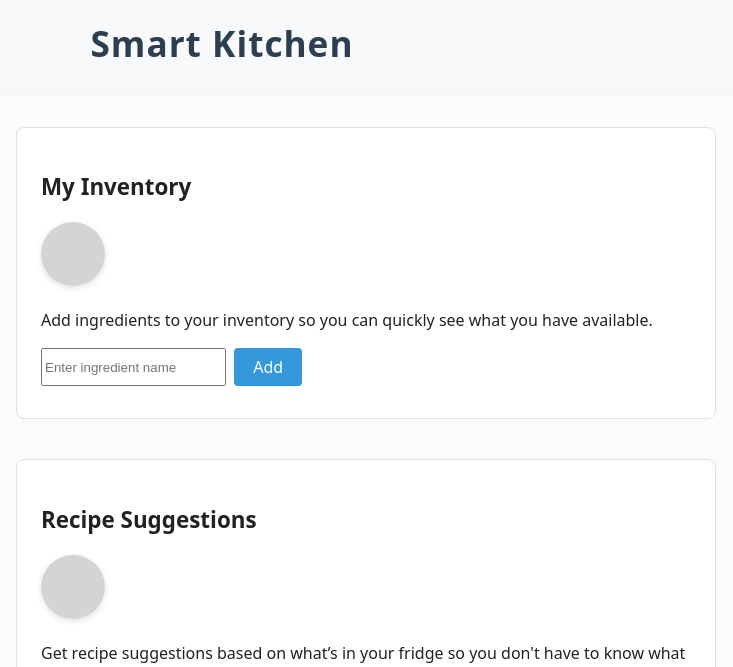
Test: SmartKitchen › shows recipe suggestions with all missing ingredients if no inventory matches (UI logic)
The image size is (733, 667).
# Add a non-matching ingredient so the button is enabled
In the field with placeholder "Enter ingredient name": (134, 368) x1=41 y1=348 x2=226 y2=386, type "xyzabc"
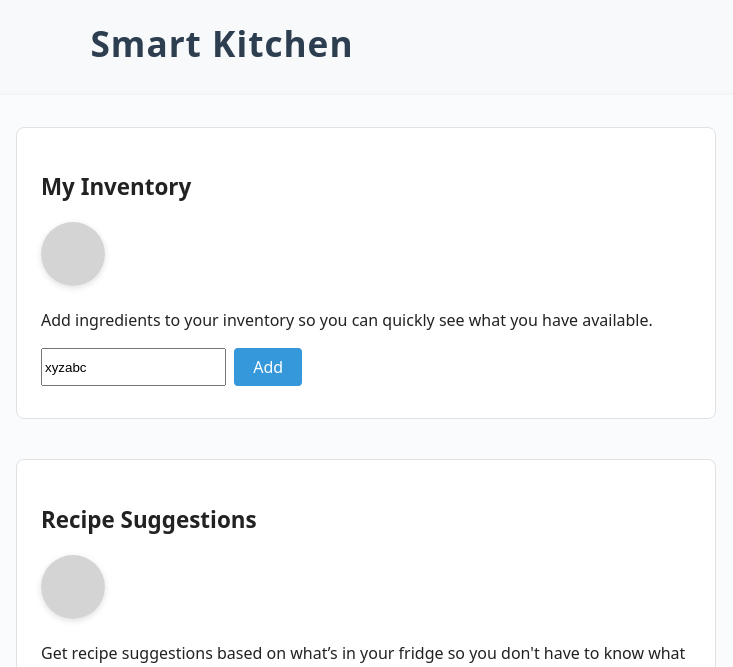
Click the button "Add": (268, 368) x1=234 y1=348 x2=302 y2=386
(page scrolled)
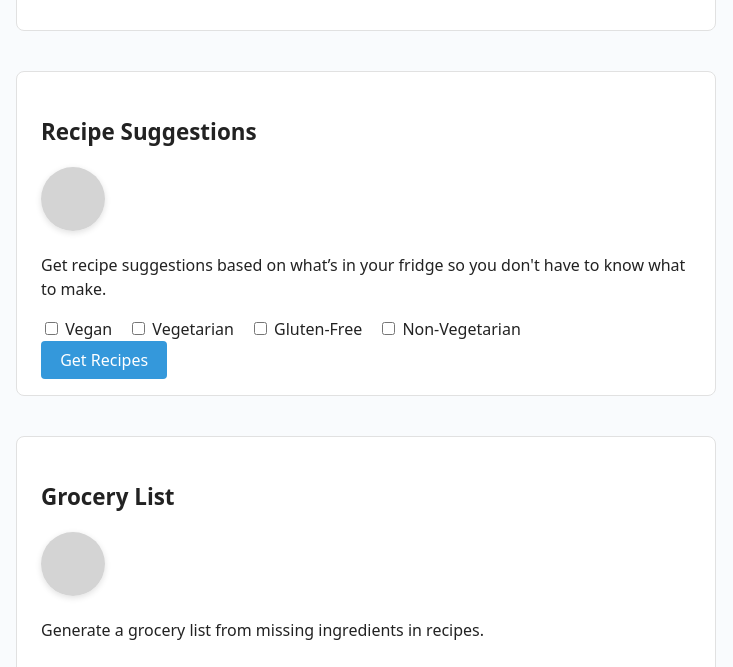
# Now click Get Recipes
Click the button "Get Recipes": (104, 360) x1=41 y1=341 x2=167 y2=379
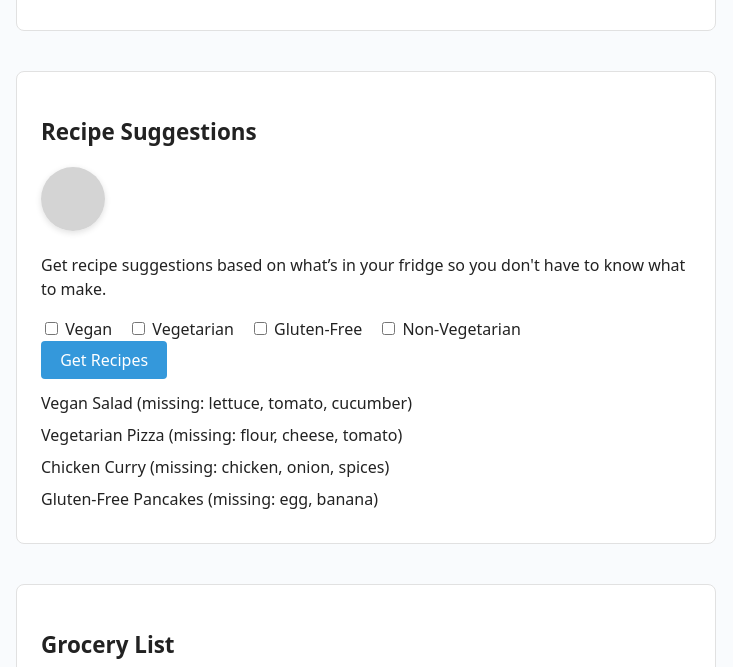
Expected: the list item "Vegan Salad (missing: lettuce, tomato, cucumber)" is shown, x1=41 y1=392 x2=412 y2=414
Expected: the list item "Vegetarian Pizza (missing: flour, cheese, tomato)" is shown, x1=41 y1=424 x2=402 y2=446
